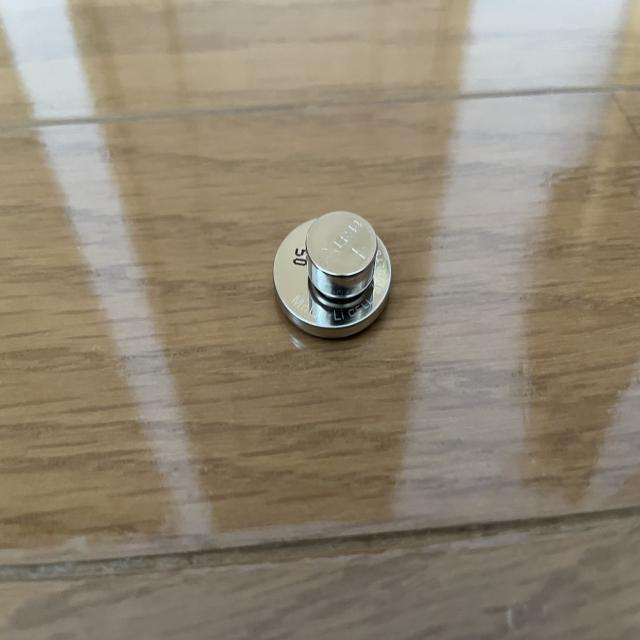COIN: (270, 211, 394, 341), (304, 209, 380, 300)
